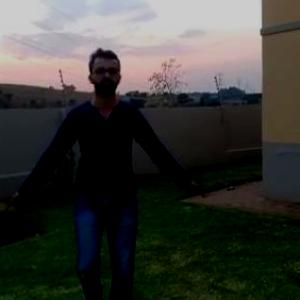land: (12, 50, 194, 288)
